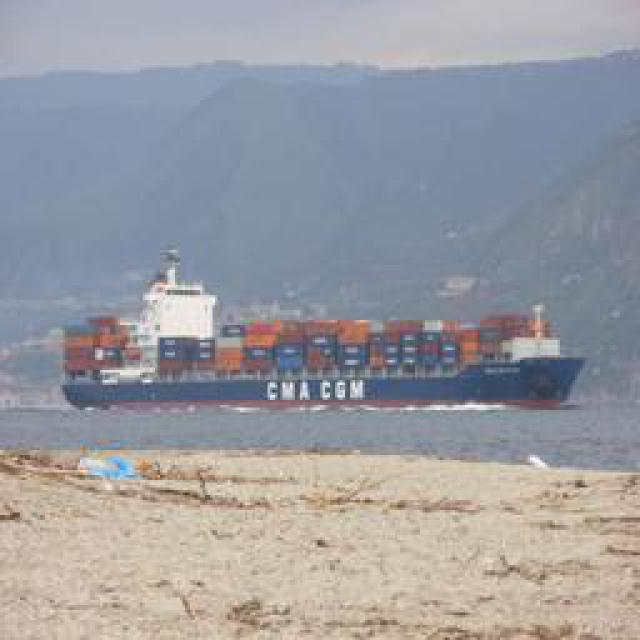Ship: (56, 295, 589, 413)
